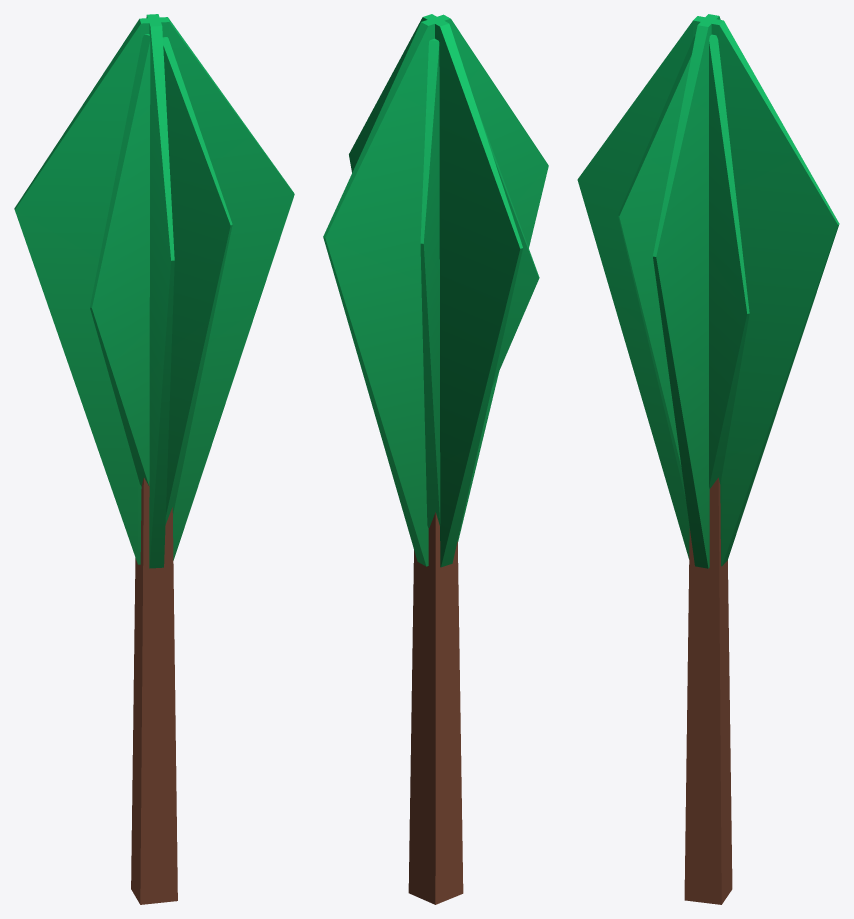
Rendered from Tree_33_gradient_green_vc.fbx.
The picture shows the model from 3 angles, left to right: view 1: azimuth 30°, elevation 25°; view 2: azimuth 150°, elevation 25°; view 3: azimuth 270°, elevation 25°; orthographic projection.
Parts seen in each view (by area): view 1: Tree_33_gradient_green_vc; view 2: Tree_33_gradient_green_vc; view 3: Tree_33_gradient_green_vc.
Part boxes in pixels (x1=…): Tree_33_gradient_green_vc: x1=14, y1=14, x2=294, y2=904; Tree_33_gradient_green_vc: x1=323, y1=14, x2=548, y2=904; Tree_33_gradient_green_vc: x1=577, y1=14, x2=839, y2=904.
Size of the model in its own units: 84.61 by 311 by 84.61.
